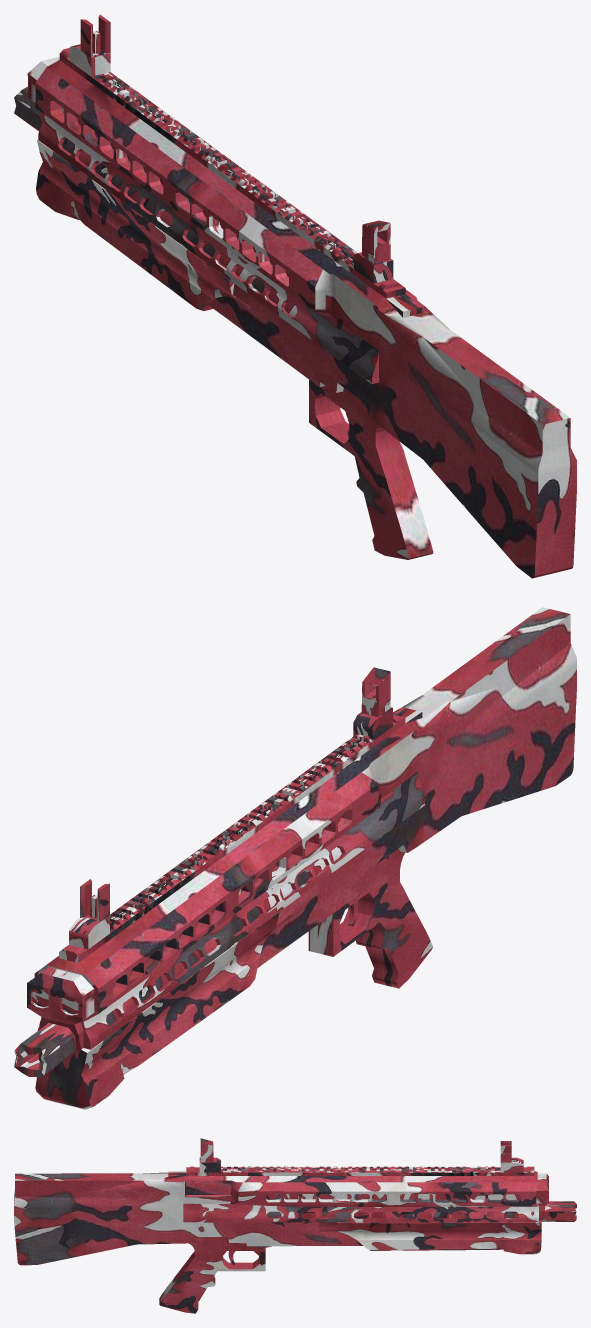
The model's file is uts15.fbx.
3 renders of one model, top to bottom at view 1: azimuth 30°, elevation 25°; view 2: azimuth 150°, elevation 25°; view 3: azimuth 270°, elevation 25°, orthographic. The views are drawn at different scales.
Parts seen in each view (by area): view 1: pCube1; view 2: pCube1; view 3: pCube1.
Boxes of the visible parts, x1,y1,x2,y2 form: pCube1: (14,14,576,578); pCube1: (14,607,576,1109); pCube1: (14,1138,576,1313).
Bounding box in the file's own units: 2.08 × 10 × 29.99.
Materials: 1 (1 with a texture image).
